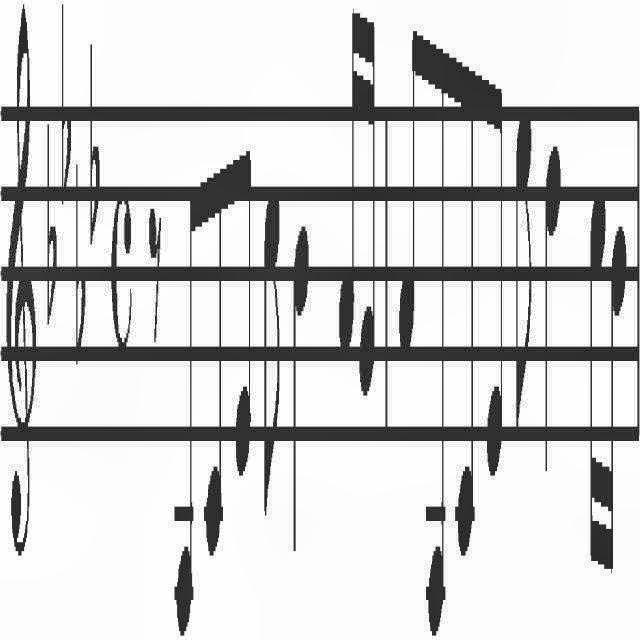Bass-clef: (4, 4, 38, 564)
Bemol: (46, 110, 59, 342), (60, 2, 72, 224), (90, 46, 102, 254), (76, 163, 86, 369)
Eighth-note: (426, 31, 449, 637), (456, 53, 476, 561), (202, 150, 225, 572), (174, 173, 193, 639), (398, 21, 422, 363), (232, 131, 254, 497), (487, 72, 505, 500), (262, 190, 282, 536), (515, 102, 533, 458)
Eighth-rest: (148, 188, 160, 354)
Quarter-note: (292, 224, 312, 574), (544, 142, 560, 498)
Sixteenth-note: (606, 220, 628, 614), (336, 0, 358, 360), (589, 190, 607, 598), (359, 6, 376, 406)
